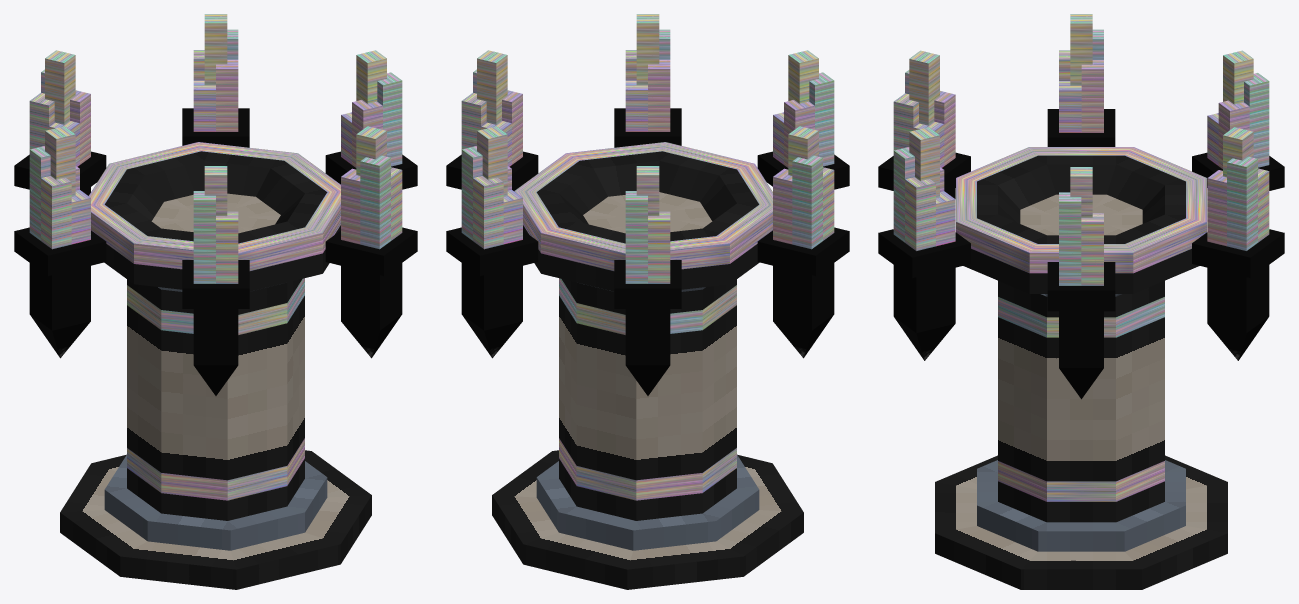
File: pedestalaltar_inventory.obj
3 views of the same model, side by side, from view 1: azimuth 30°, elevation 25°; view 2: azimuth 150°, elevation 25°; view 3: azimuth 270°, elevation 25° (orthographic).
Parts seen in each view (by area): view 1: CRYSTAL_HOLDER.002_Cube.003; view 2: CRYSTAL_HOLDER.002_Cube.003; view 3: CRYSTAL_HOLDER.002_Cube.003.
Boxes of the visible parts, left/top/right/bottom form: CRYSTAL_HOLDER.002_Cube.003: left=14, top=14, right=417, bottom=589; CRYSTAL_HOLDER.002_Cube.003: left=446, top=14, right=849, bottom=589; CRYSTAL_HOLDER.002_Cube.003: left=878, top=14, right=1284, bottom=589.
Size of the model in its own units: 1.19 by 1.32 by 1.12.
